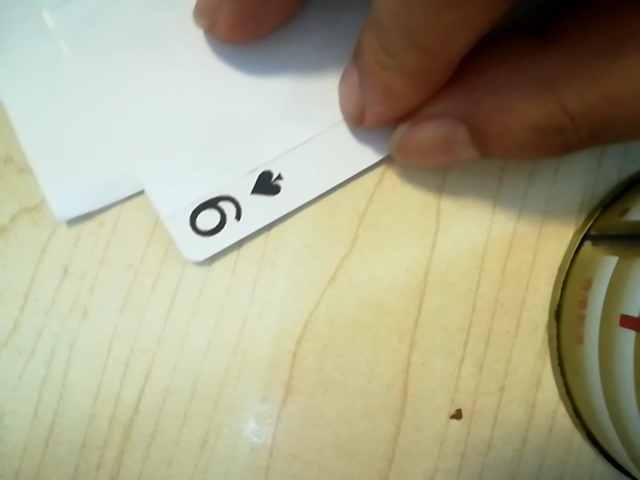ht 9: (170, 155, 302, 254)
